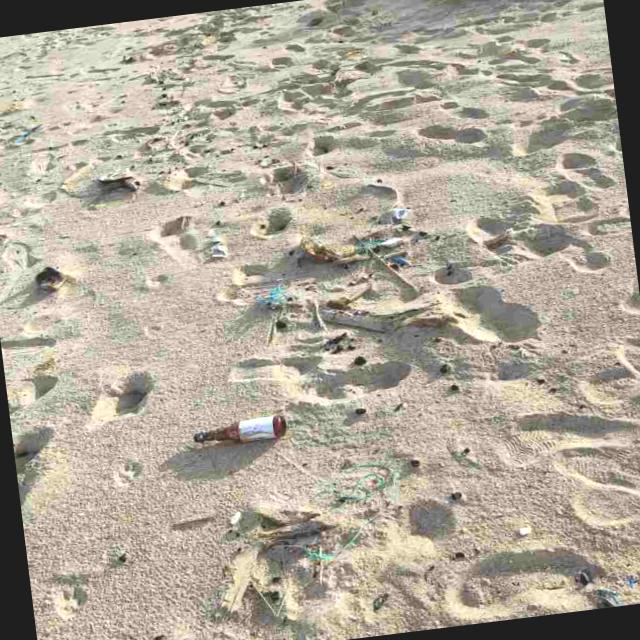chai_thuy_tinh: (193, 416, 286, 443)
rac_huu_co: (34, 266, 61, 291)
